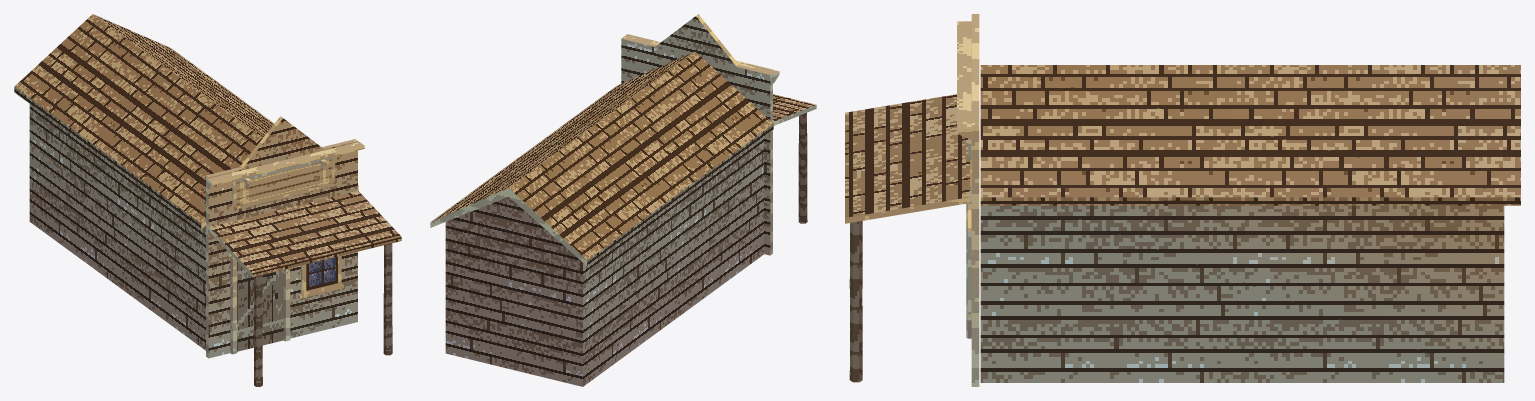
Rendered from wtown.sheriff__office.glb.
3 views of the same model, side by side, from view 1: azimuth 30°, elevation 25°; view 2: azimuth 150°, elevation 25°; view 3: azimuth 270°, elevation 25° (orthographic). The views are drawn at different scales.
Visible parts, largest first — view 1: kit_roof, kit_body, kit_front, kit_porch, kit_card_panes, kit_trim, kit_windows; view 2: kit_body, kit_roof, kit_front, kit_porch, kit_trim; view 3: kit_body, kit_roof, kit_porch, kit_front, kit_trim, kit_windows.
Part boxes in pixels (<box>): kit_roof: <box>14,14,358,229</box>; kit_body: <box>29,104,205,350</box>; kit_front: <box>206,116,357,358</box>; kit_porch: <box>209,190,401,386</box>; kit_card_panes: <box>236,159,337,351</box>; kit_trim: <box>206,141,364,354</box>; kit_windows: <box>298,255,343,298</box>; kit_body: <box>445,137,763,386</box>; kit_roof: <box>430,51,773,265</box>; kit_front: <box>621,14,772,255</box>; kit_porch: <box>773,94,816,223</box>; kit_trim: <box>622,34,779,83</box>; kit_body: <box>980,205,1504,382</box>; kit_roof: <box>980,65,1520,205</box>; kit_porch: <box>845,94,970,382</box>; kit_front: <box>971,14,979,386</box>; kit_trim: <box>957,21,972,338</box>; kit_windows: <box>967,204,971,320</box>.
Bounding box in the file's own units: 4 × 5.4 × 10.32.
Materials: 7 (7 with a texture image).
